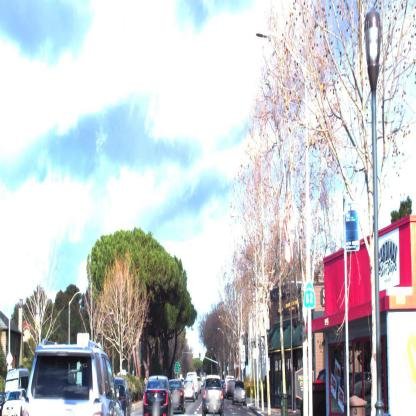car: (143, 376, 170, 416), (114, 372, 135, 415), (1, 382, 28, 415), (201, 378, 224, 415), (167, 380, 185, 415), (232, 376, 246, 407), (224, 370, 238, 399), (183, 377, 197, 402)
sign: (344, 199, 361, 254), (303, 280, 317, 311), (175, 360, 179, 375)
truck: (2, 342, 129, 416)
